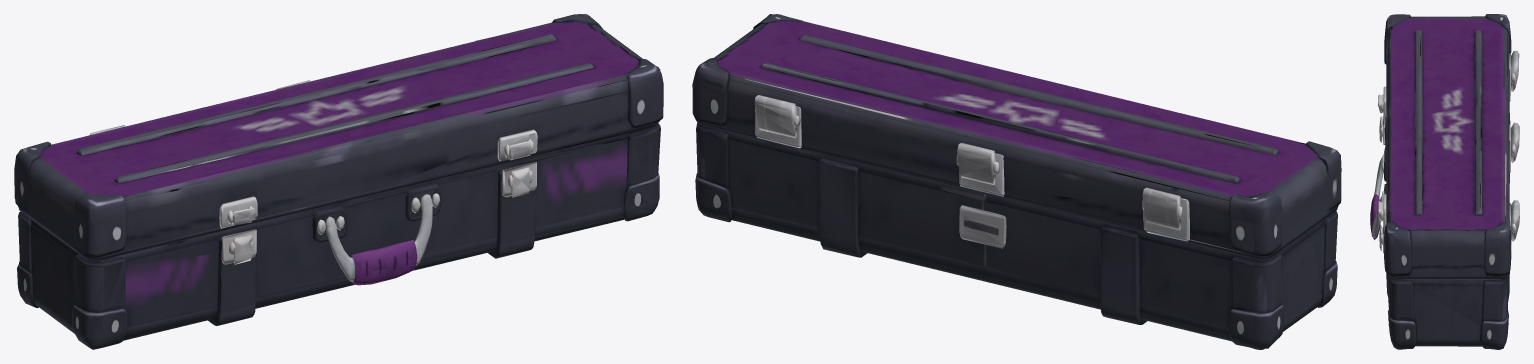
Rendered from tier-4-long.glb.
3 views of the same model, side by side, from view 1: azimuth 30°, elevation 25°; view 2: azimuth 150°, elevation 25°; view 3: azimuth 270°, elevation 25° (orthographic). The views are drawn at different scales.
Parts seen in each view (by area): view 1: tier-4-long; view 2: tier-4-long; view 3: tier-4-long.
Boxes of the visible parts, <box> form: tier-4-long: <box>14,14,663,349</box>; tier-4-long: <box>692,14,1341,349</box>; tier-4-long: <box>1370,14,1519,349</box>.
Size of the model in its own units: 2.1 by 0.55 by 0.6.
Materials: 1 (1 with a texture image).
